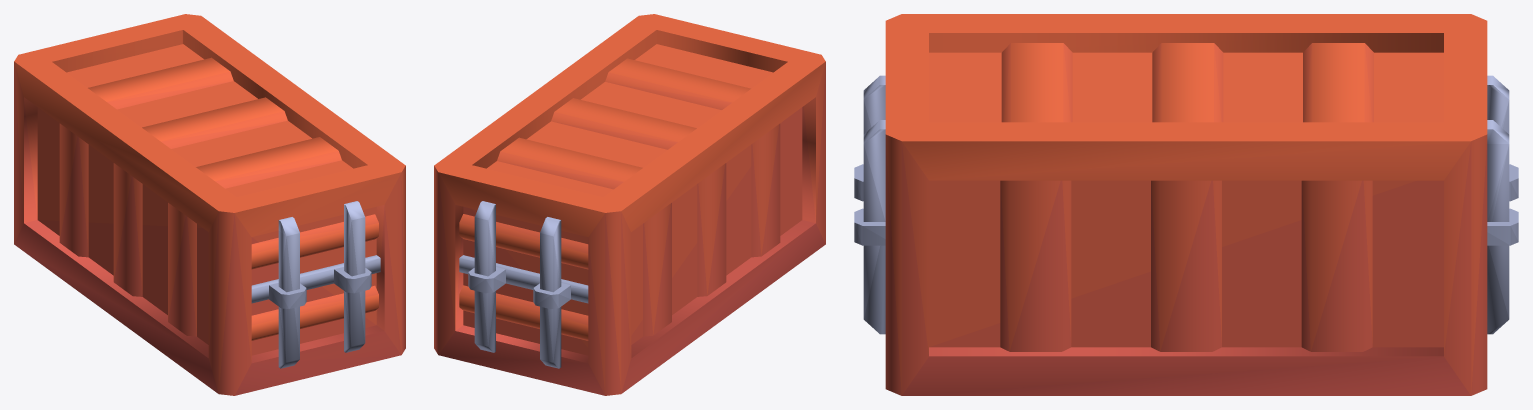
Rendered from shipping-container-a.obj.
The picture shows the model from 3 angles, left to right: view 1: azimuth 30°, elevation 25°; view 2: azimuth 150°, elevation 25°; view 3: azimuth 270°, elevation 25°; orthographic projection. The views are drawn at different scales.
Bounding box in the file's own units: 0.3726 × 0.3481 × 0.8226.
